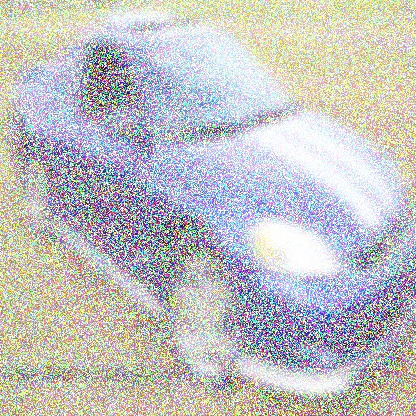Vehicle: (8, 10, 415, 402)
